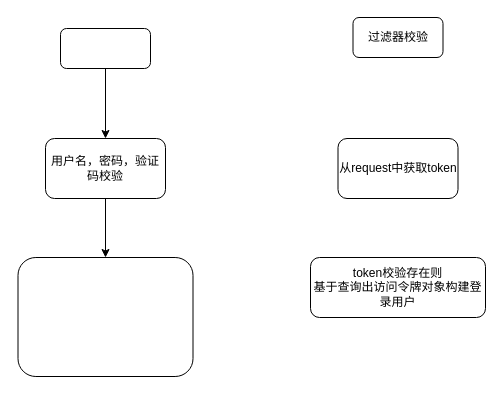
The diagram is 503 pixels wide and 394 high, and some of its shapes have lost their labels. The shapes that lost their labels are listed below. From the top down, each one's box as (x1, y1, x2, y2) in pixels, then its label:
(60, 28, 150, 68): 开始
(17, 256, 193, 376): 创建令牌对象先创建刷新令牌再创建访问令牌其实都是uuid生成 访问令牌和刷新令牌都有持久化到数据库 访问令牌会额外放到redis
